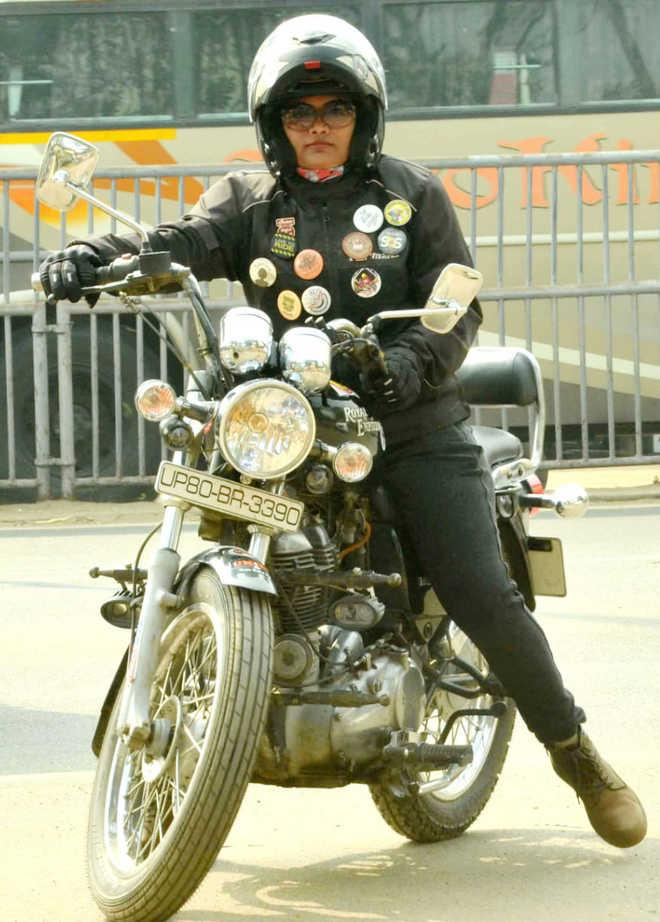helmet: (247, 10, 387, 158)
